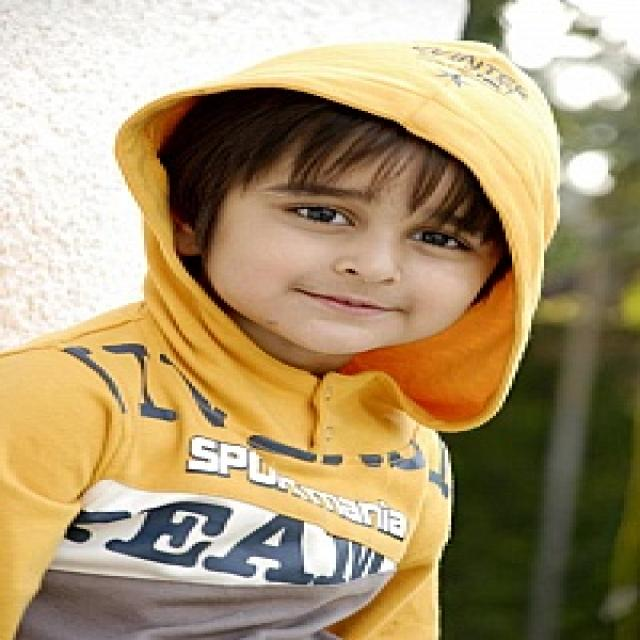Eyes: (263, 186, 491, 262)
